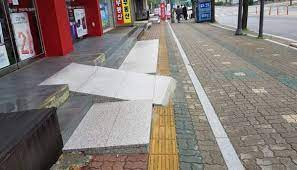guide_blocks: (152, 108, 177, 170), (158, 25, 169, 77)
